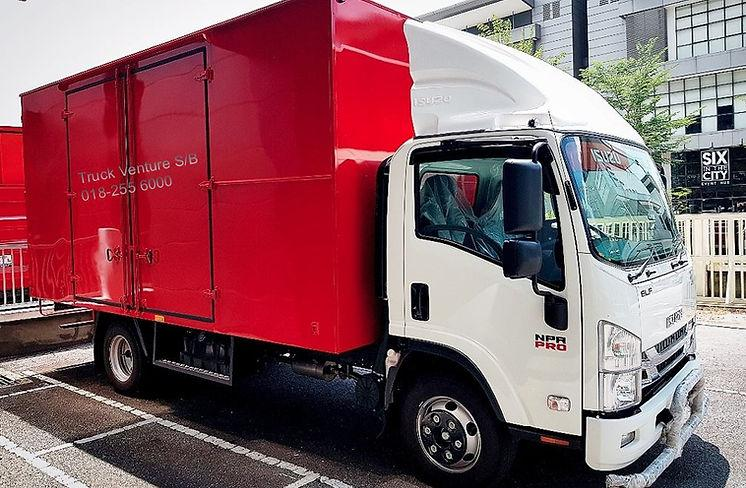truck: (19, 1, 705, 488)
